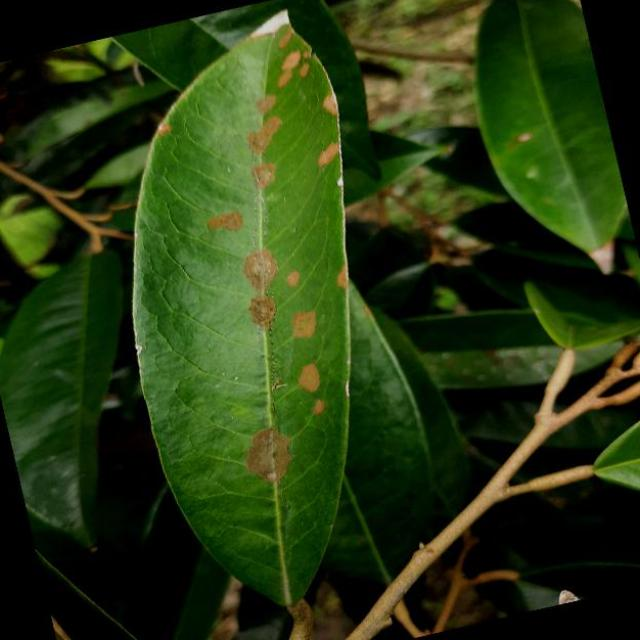Algal Leaf Spot: (59, 0, 451, 626)
